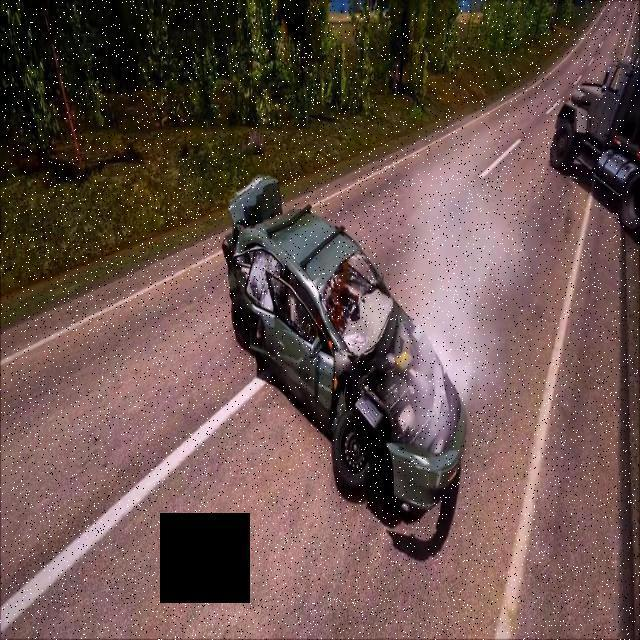multiple_accident: (187, 165, 485, 568), (523, 35, 640, 237)
